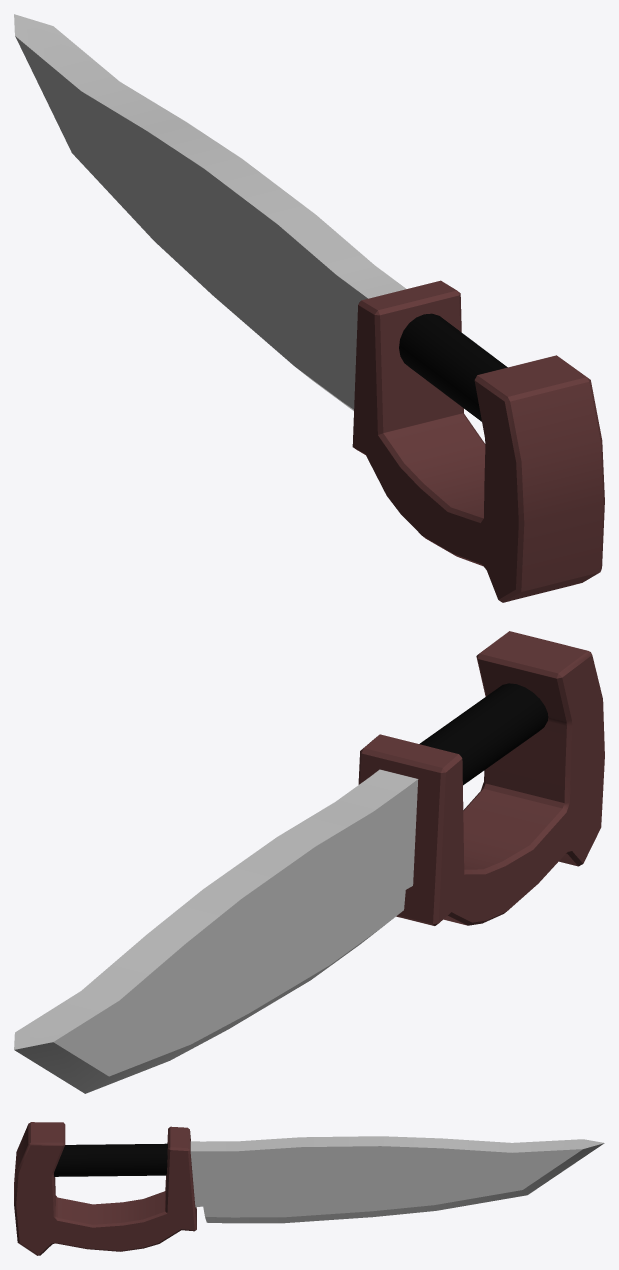
File: Knife.fbx
3 views of the same model, one above another, from view 1: azimuth 30°, elevation 25°; view 2: azimuth 150°, elevation 25°; view 3: azimuth 270°, elevation 25° (orthographic). The views are drawn at different scales.
Parts seen in each view (by area): view 1: pCylinder2; view 2: pCylinder2; view 3: pCylinder2.
Part boxes in pixels (x1,y1,x2,y2): pCylinder2: (14, 14, 604, 602); pCylinder2: (14, 631, 604, 1093); pCylinder2: (14, 1122, 604, 1255).
Bounding box in the file's own units: 2.41 × 5.56 × 26.3.
